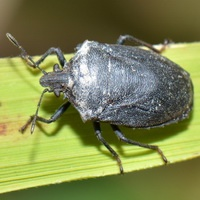insect: (6, 33, 192, 172), (37, 91, 68, 119)
